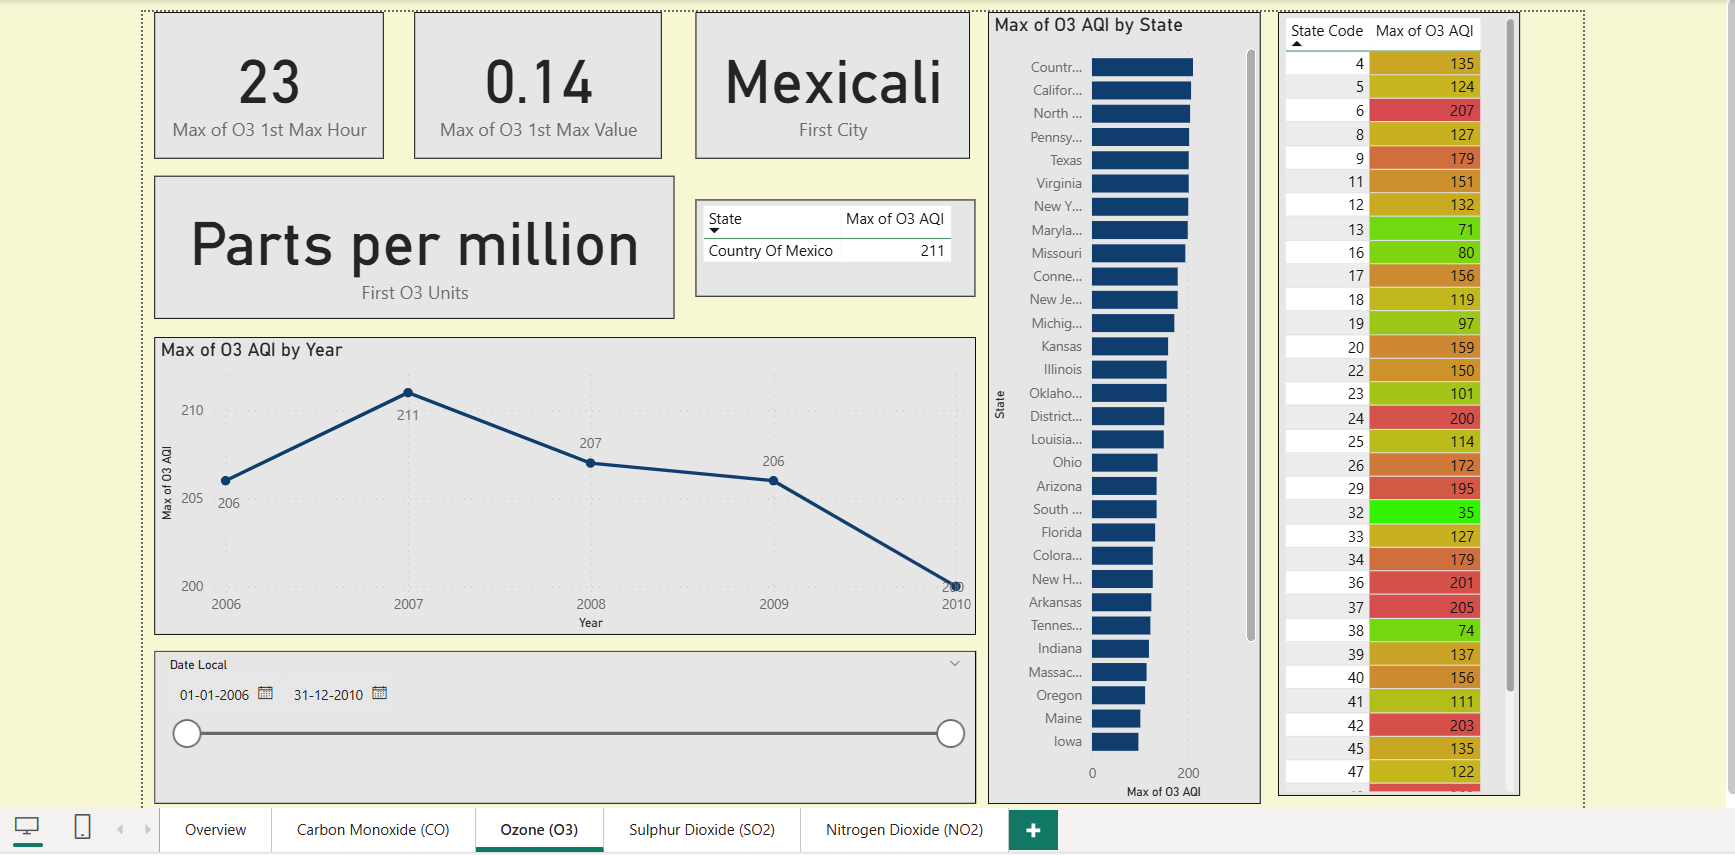

Layout of this report page (visuals, bound fields, positions):
{"tool":"powerbi","page":{"name":"Ozone (O3)","canvas":[1280,720],"ordinal":2},"visuals":[{"type":"card","fields":{"Values":["Max(US Pollution 2006-2010.O3 1st Max Hour)"]},"box":[10,0,203.8,130],"z":0},{"type":"card","fields":{"Values":["Max(US Pollution 2006-2010.O3 1st Max Value)"]},"box":[241.2,0,220,130],"z":1000},{"type":"card","title":"O3 Units","fields":{"Values":["Min(US Pollution 2006-2010.O3 Units)"]},"box":[10,145,462.5,127.5],"z":2000},{"type":"card","fields":{"Values":["Min(US Pollution 2006-2010.City)"]},"box":[491.2,0,243.8,130],"z":3000},{"type":"tableEx","fields":{"Values":["US Pollution 2006-2010.State","Max(US Pollution 2006-2010.O3 AQI)"]},"box":[491.2,166.2,248.8,86.2],"z":4000},{"type":"lineChart","fields":{"Category":["US Pollution 2006-2010.Date Local.Variation.Date Hierarchy.Year"],"Y":["Max(US Pollution 2006-2010.O3 AQI)"]},"box":[10,288.8,730,265],"z":5000},{"type":"slicer","fields":{"Values":["US Pollution 2006-2010.Date Local"]},"box":[10,567.5,730,136.2],"z":6000},{"type":"barChart","fields":{"Category":["US Pollution 2006-2010.State"],"Y":["Max(US Pollution 2006-2010.O3 AQI)"]},"box":[751.2,0,242.5,703.8],"z":7000},{"type":"tableEx","fields":{"Values":["US Pollution 2006-2010.State Code","Max(US Pollution 2006-2010.O3 AQI)"]},"box":[1008.6,0,215.4,697.1],"z":8000}]}

Visuals, with their boxes in screenshot pixels (x1, y1, x2, y2):
card - Max(US Pollution 2006-2010.O3 1st Max Hour): (142, 5, 372, 151)
card - Max(US Pollution 2006-2010.O3 1st Max Value): (403, 5, 651, 151)
"O3 Units" card: (142, 168, 664, 312)
card - Min(US Pollution 2006-2010.City): (685, 5, 960, 151)
tableEx - US Pollution 2006-2010.State x Max(US Pollution 2006-2010.O3 AQI): (685, 192, 966, 289)
lineChart - US Pollution 2006-2010.Date Local.Variation.Date Hierarchy.Year x Max(US Pollution 2006-2010.O3 AQI): (142, 330, 966, 629)
slicer - US Pollution 2006-2010.Date Local: (142, 645, 966, 798)
barChart - US Pollution 2006-2010.State x Max(US Pollution 2006-2010.O3 AQI): (979, 5, 1252, 799)
tableEx - US Pollution 2006-2010.State Code x Max(US Pollution 2006-2010.O3 AQI): (1269, 5, 1512, 791)
